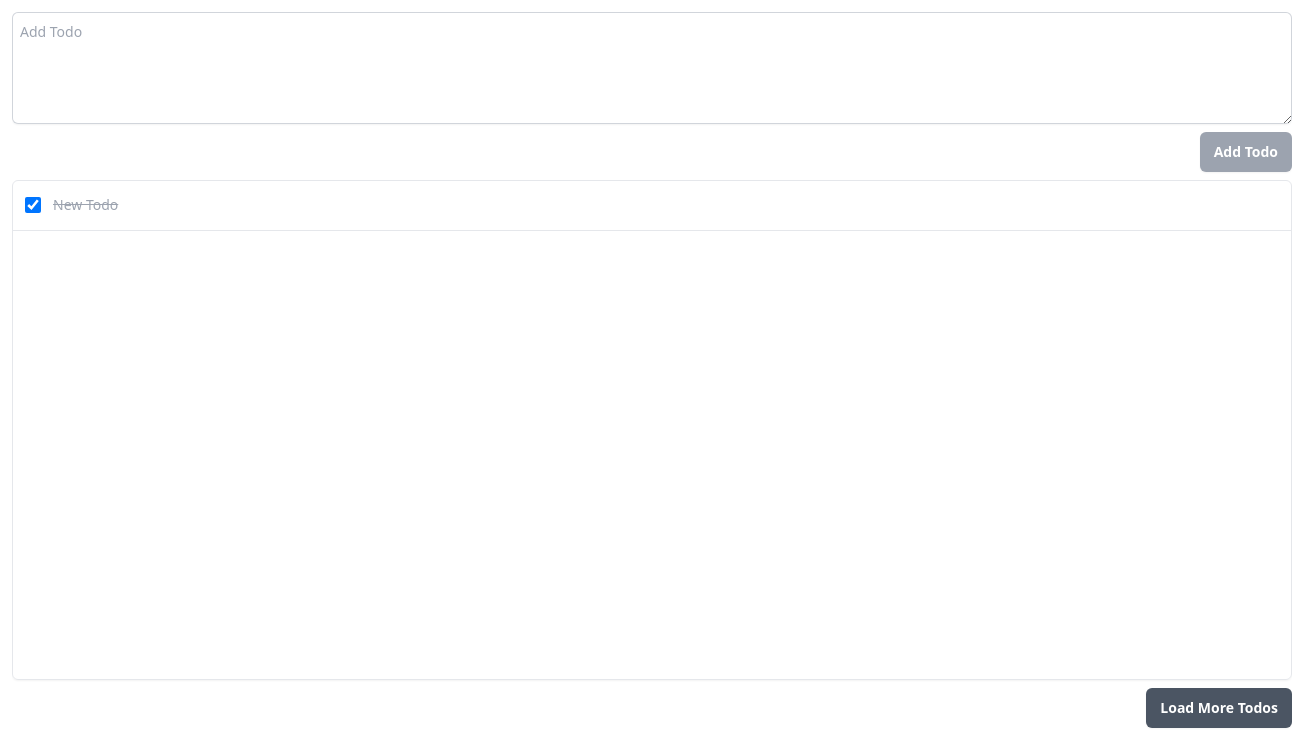
Test: adds long todo
This screenshot has width=1304, height=732.
Type "This is a very long todo that exceeds the character limit" into the text box with placeholder "Add Todo" at (652, 68), box [12, 12, 1292, 124]
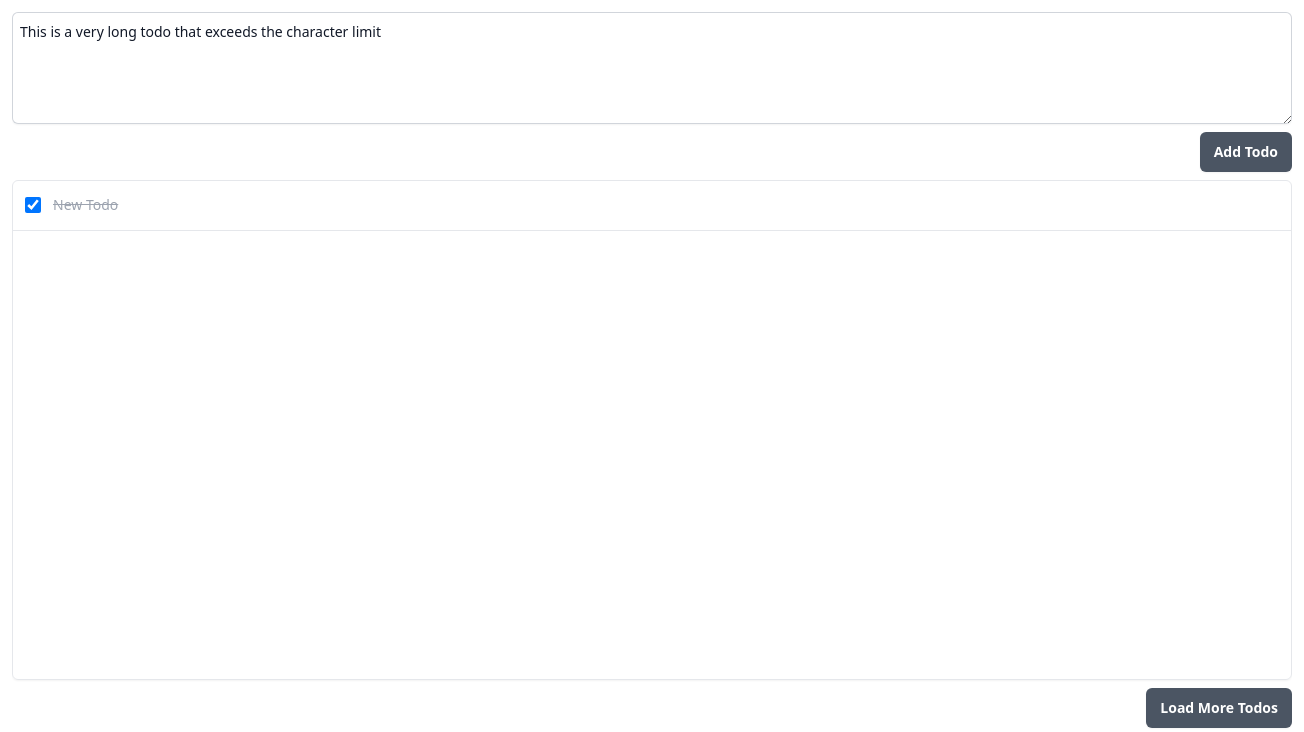
Click the button "Add Todo" at (1246, 152), box [1200, 132, 1292, 172]
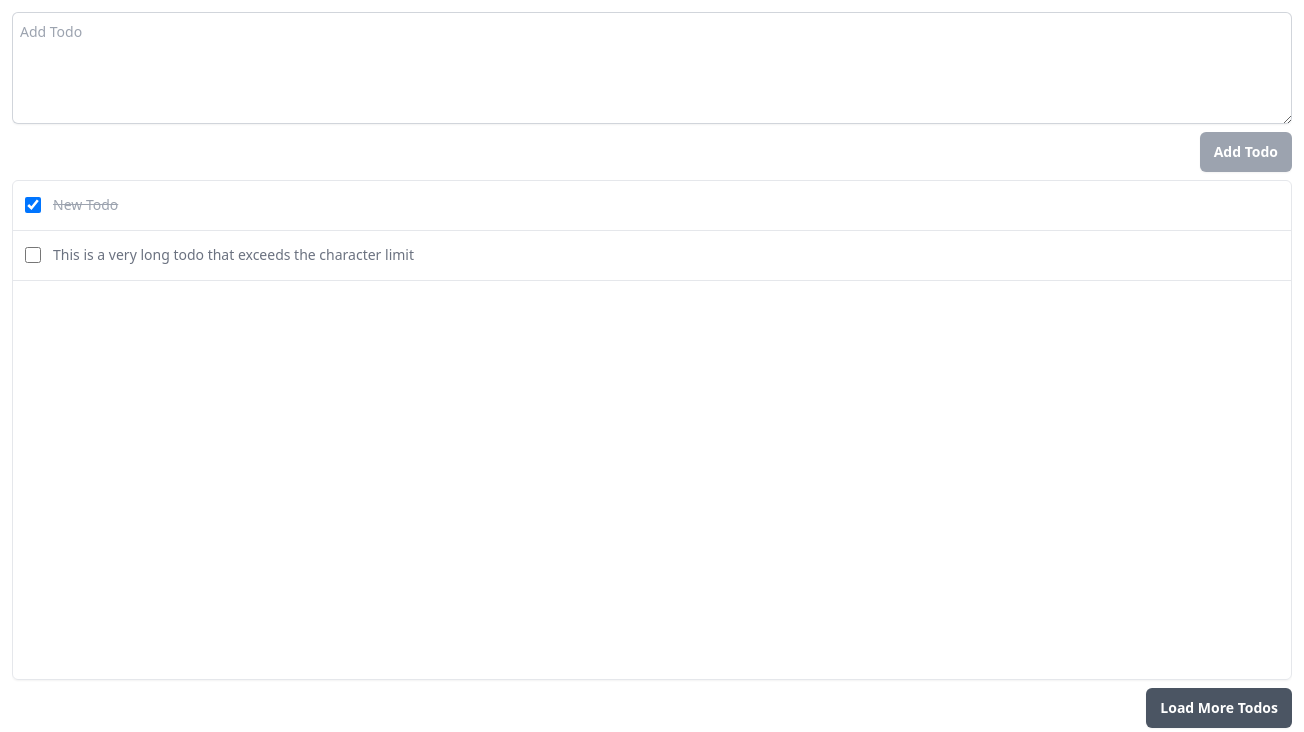
Now the text "This is a very long todo that exceeds the character limit" is shown, box [53, 245, 414, 264]
